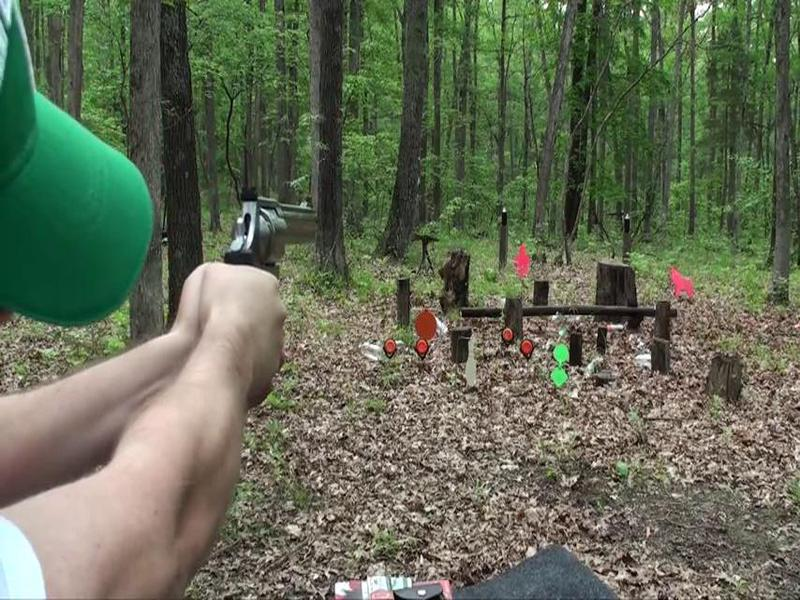Revolver: (199, 178, 333, 322)
